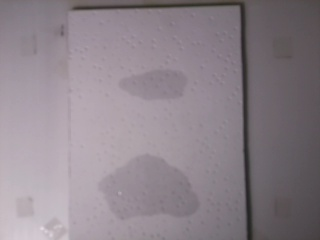Water_detected: (113, 161, 187, 212), (131, 66, 182, 97)
